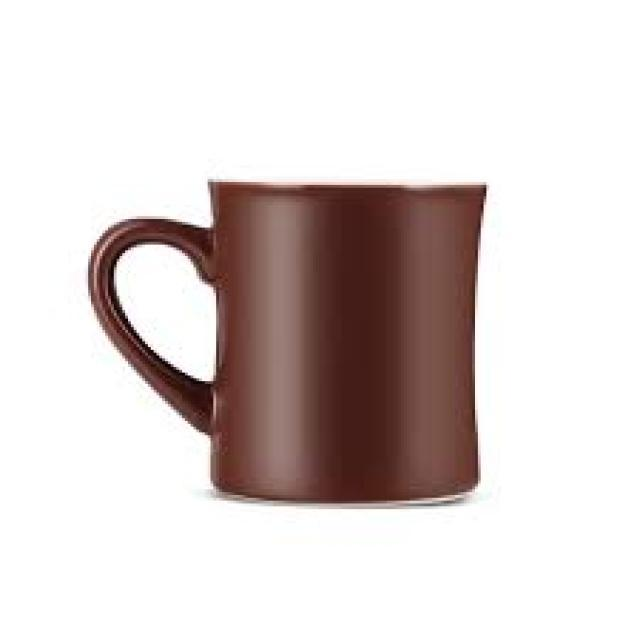taza: (88, 176, 490, 506)
